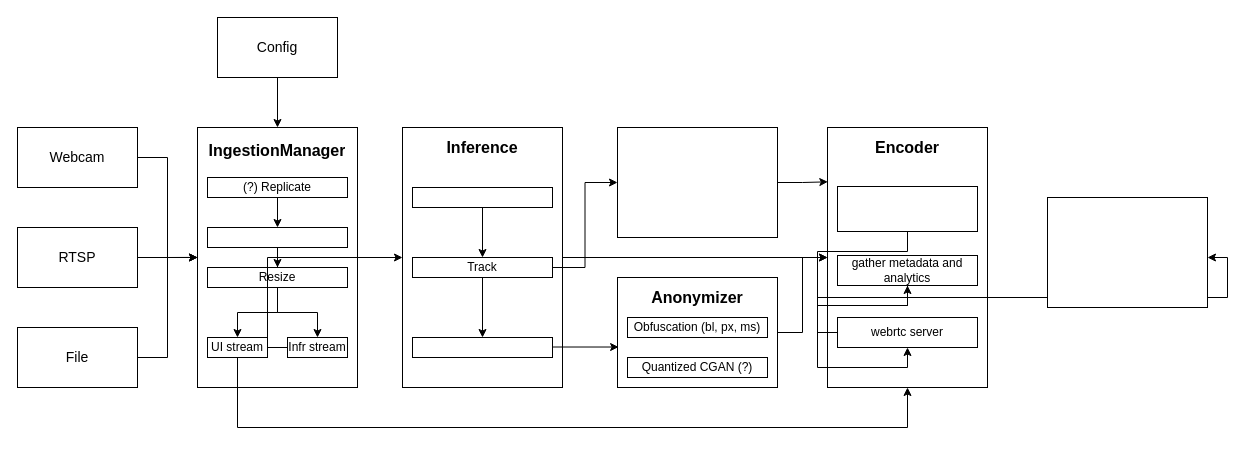
Image size: 1253x453. Some labels were removed from this diagram. The centre of each missing label's shape, as x and y in pixels:
Analytics: [697,182]
Detect: [482,197]
GST-backend ingestion: [277,237]
interpolate bboxes from anonymizer onto UI stream: [907,209]
Recognize: [482,347]
Streamlit UI: [1127,252]
